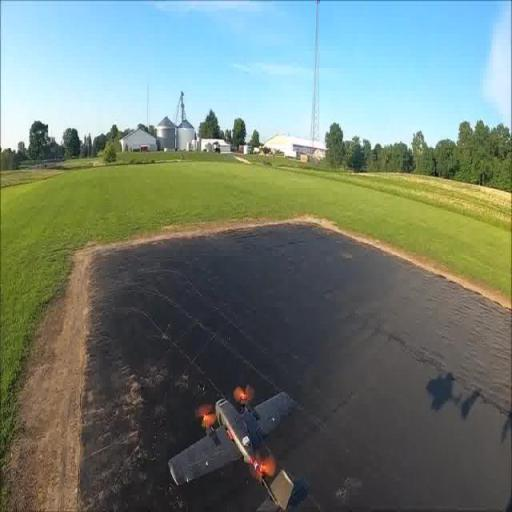uav: (168, 370, 300, 506)
